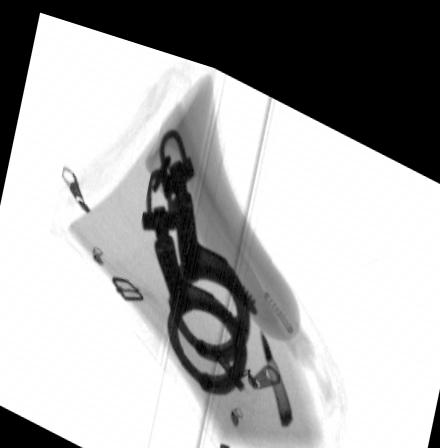Bullet: (260, 312, 293, 409)
HandCuffs: (140, 117, 260, 382)
